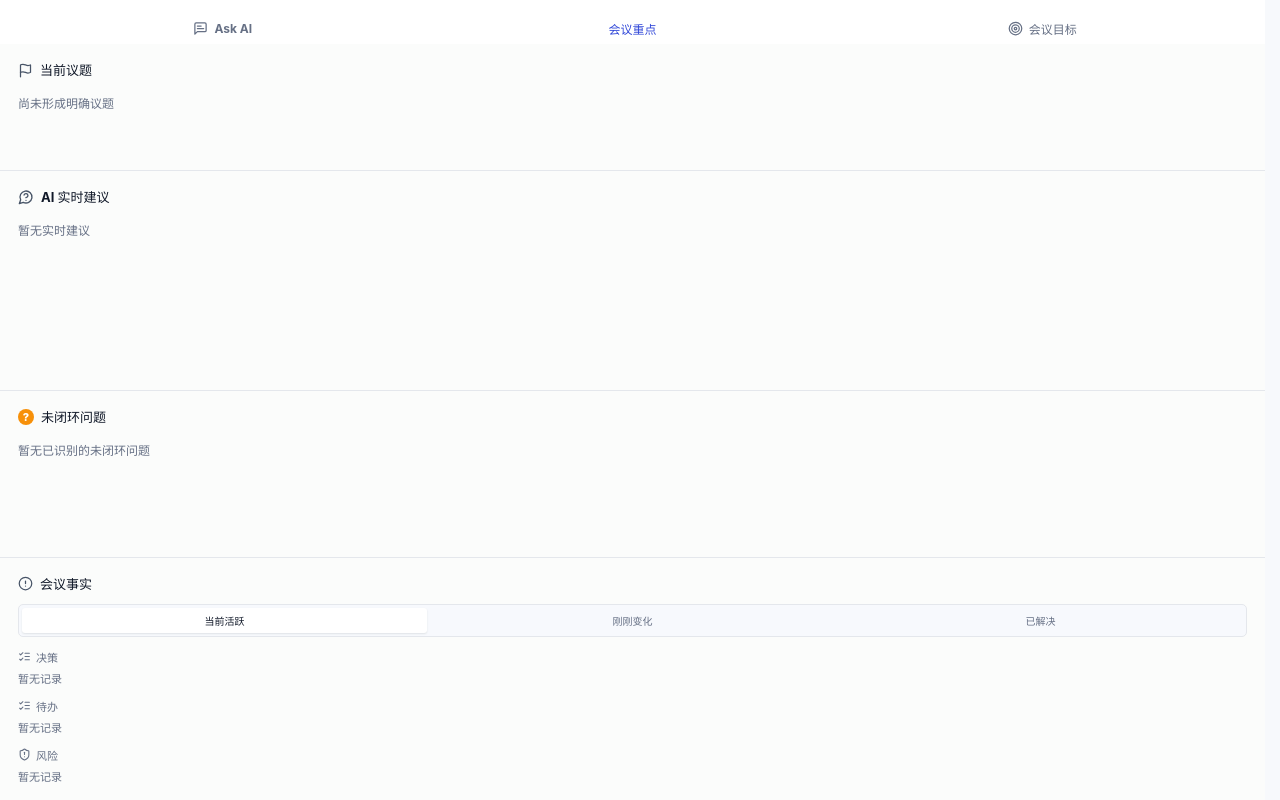
it: edits meeting focus points as a new version without replacing prior context
The width and height of the screenshot is (1280, 800).
Click the tab "会议目标". click: (1042, 29)
box: [837, 0, 1247, 58]
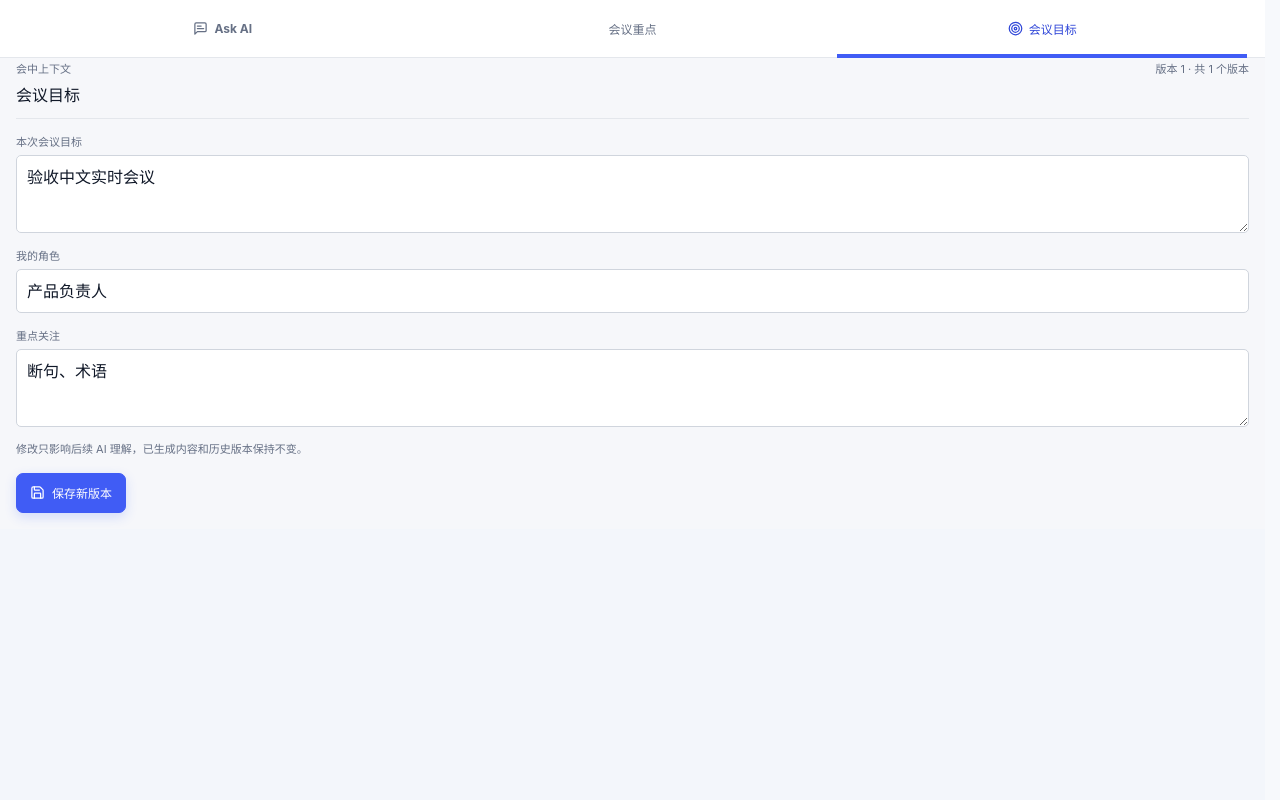
Expected: the text box showing "验收中文实时会议" is shown, [16, 155, 1249, 233]
Replace the text in the text box with placeholder "用逗号分隔关注点" with "断句、断线恢复、纪要隔离". click: (632, 388)
box: [16, 349, 1249, 427]
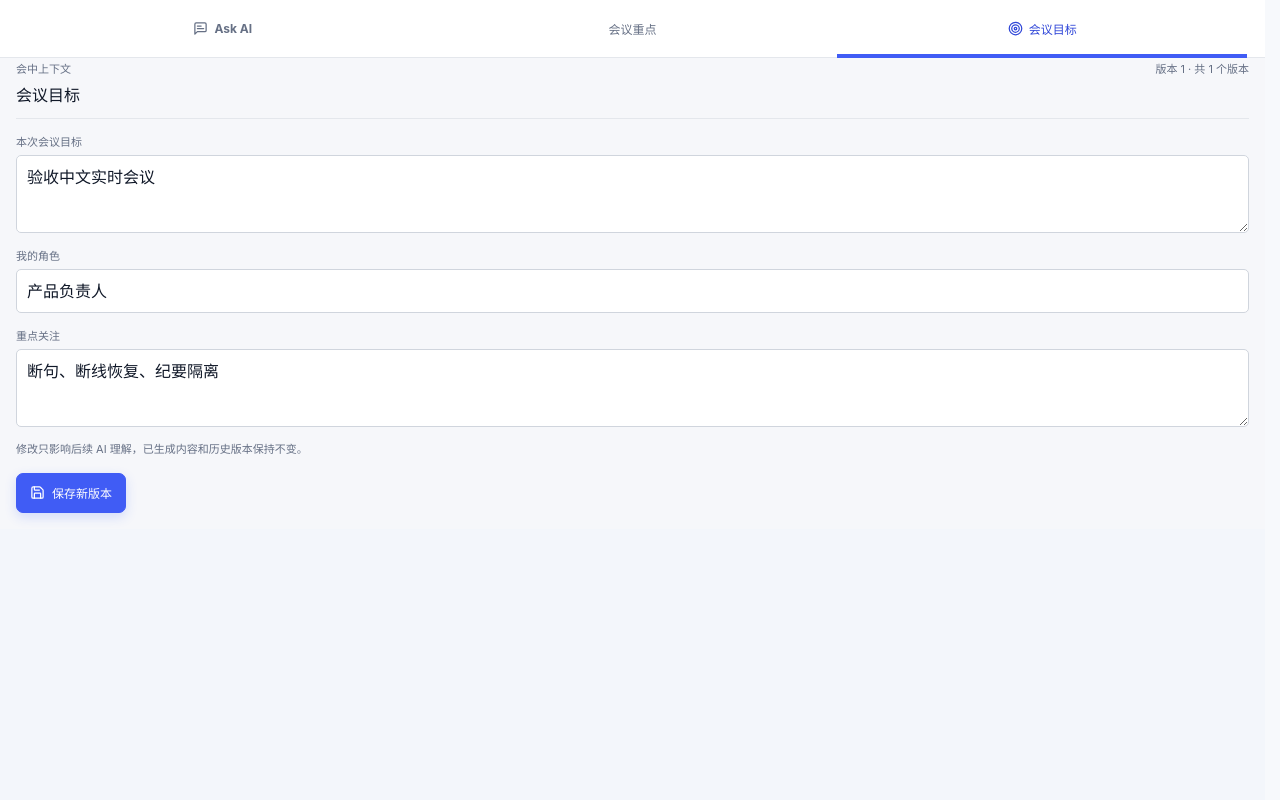
Click the button "保存新版本". click: (71, 493)
box: [16, 473, 126, 513]
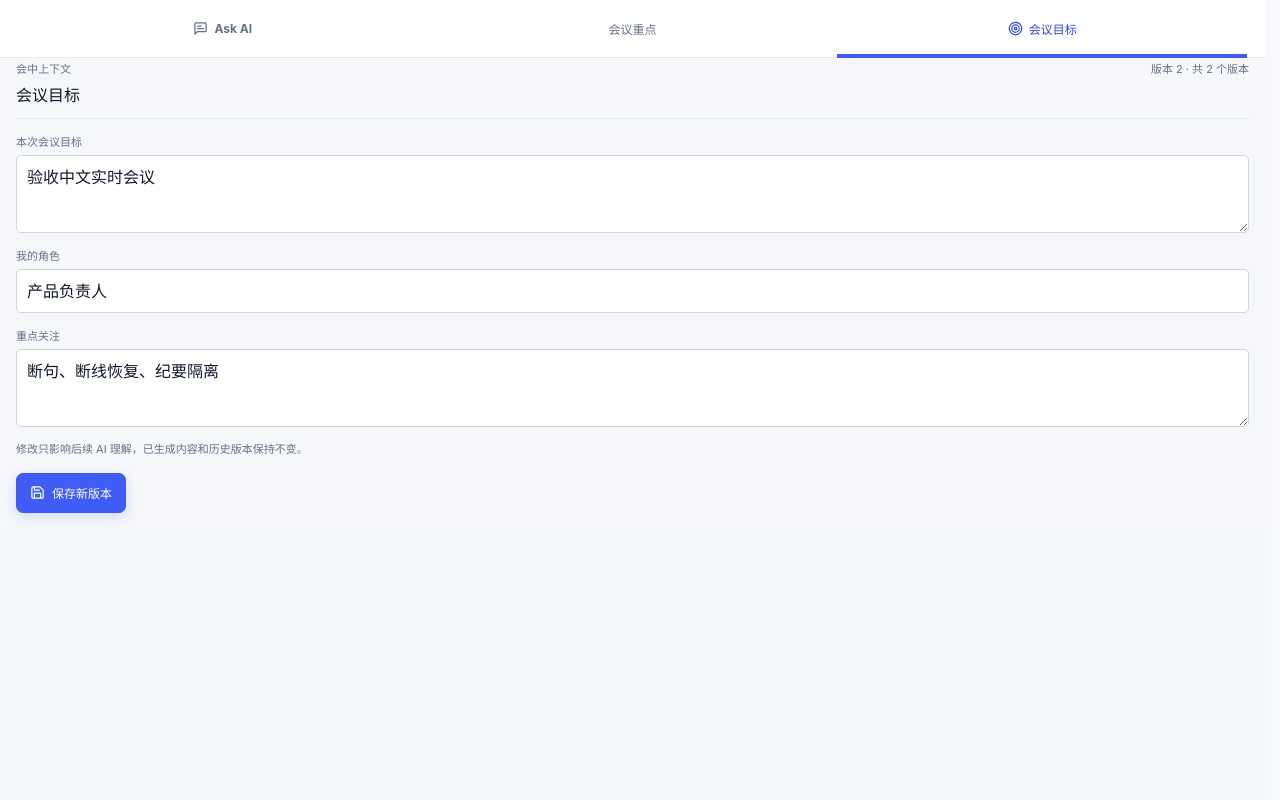
Expected: the text "版本 2 · 共 2 个版本" is shown, [1151, 60, 1249, 76]
